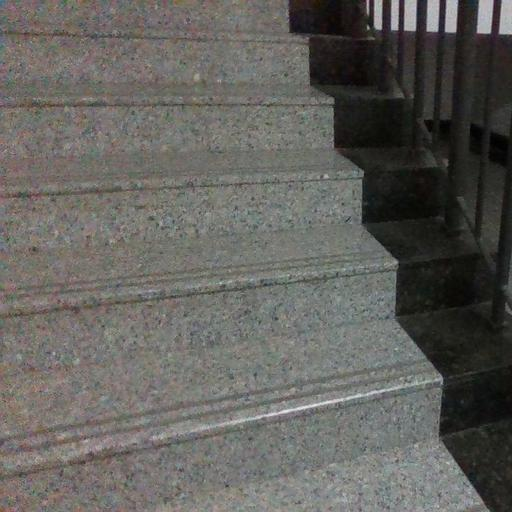stairs: (0, 0, 484, 511)
